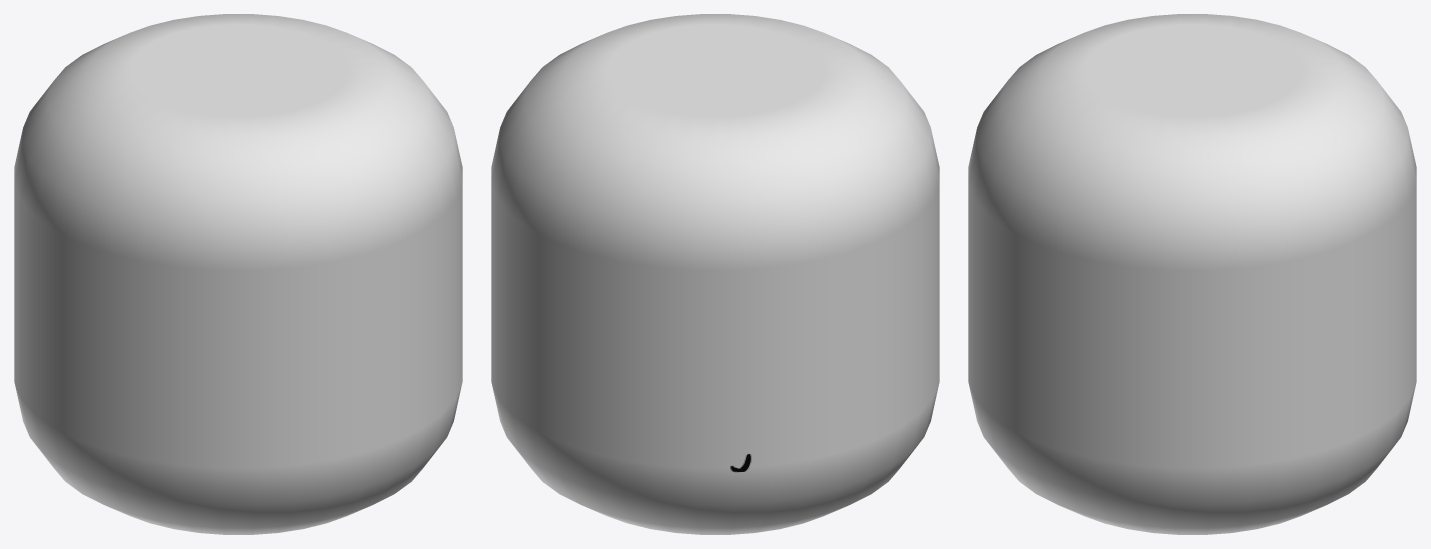
Rendered from 14-Scared-Laughing-Face-face.glb.
3 renders of one model, left to right at view 1: azimuth 30°, elevation 25°; view 2: azimuth 150°, elevation 25°; view 3: azimuth 270°, elevation 25°, orthographic.
Visible parts, largest first — view 1: 14-Scared-Laughing-Face-face; view 2: 14-Scared-Laughing-Face-face; view 3: 14-Scared-Laughing-Face-face.
Part boxes in pixels (x1,y1,x2,y2): 14-Scared-Laughing-Face-face: [14, 14, 462, 534]; 14-Scared-Laughing-Face-face: [491, 14, 939, 534]; 14-Scared-Laughing-Face-face: [968, 14, 1416, 534].
Bounding box in the file's own units: 1.28 × 1.29 × 1.28.
Materials: 1 (1 with a texture image).
